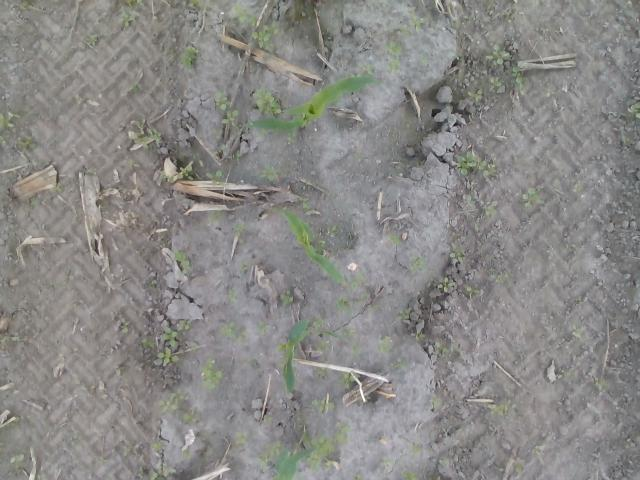Maize: (245, 76, 387, 132), (270, 205, 346, 285), (283, 318, 344, 395), (272, 446, 316, 480)
Weeds: (306, 436, 336, 470), (128, 118, 162, 148), (251, 20, 279, 54), (253, 87, 282, 116), (165, 44, 198, 69), (218, 322, 248, 346), (200, 357, 222, 389), (382, 40, 402, 74), (228, 2, 256, 26), (485, 43, 510, 65), (455, 150, 477, 175), (490, 398, 518, 416), (333, 420, 353, 444), (205, 168, 228, 188), (520, 188, 544, 207), (173, 248, 190, 274), (476, 157, 497, 178), (0, 110, 21, 130), (338, 370, 360, 389), (618, 101, 640, 120), (157, 347, 180, 365), (213, 90, 232, 110), (508, 65, 528, 84), (335, 294, 353, 315), (408, 253, 428, 271), (448, 243, 466, 263), (310, 234, 326, 256), (408, 14, 426, 33), (119, 11, 136, 31), (260, 163, 280, 180), (161, 327, 178, 347), (156, 462, 177, 478), (17, 136, 38, 152), (312, 397, 334, 412), (220, 108, 238, 126), (261, 440, 281, 456), (376, 338, 394, 354), (157, 399, 179, 412), (349, 271, 364, 290), (170, 387, 184, 407), (358, 60, 375, 76), (10, 449, 28, 464), (232, 221, 244, 243), (256, 320, 272, 336), (178, 165, 194, 181), (482, 200, 498, 216), (395, 23, 412, 38), (390, 358, 408, 372), (450, 342, 464, 360), (293, 412, 307, 430), (437, 278, 454, 292), (258, 454, 271, 472), (119, 0, 142, 10), (428, 394, 443, 409), (182, 410, 198, 424), (280, 290, 294, 306), (488, 76, 502, 92), (315, 366, 333, 378), (469, 212, 481, 230), (396, 308, 412, 321), (349, 341, 362, 357), (316, 339, 332, 352), (181, 0, 204, 9), (300, 196, 310, 216), (408, 441, 422, 455), (571, 324, 585, 338), (227, 150, 243, 162), (386, 234, 402, 246), (4, 416, 20, 428), (48, 182, 64, 194), (434, 342, 448, 355), (212, 144, 226, 157), (234, 431, 248, 444), (237, 260, 250, 274), (340, 325, 355, 337), (137, 465, 149, 480), (468, 88, 483, 100), (410, 329, 426, 340), (401, 470, 418, 480), (326, 224, 338, 238), (178, 318, 192, 330), (210, 208, 222, 222), (503, 8, 517, 20), (138, 338, 156, 347), (120, 317, 130, 333), (112, 364, 128, 374), (344, 72, 364, 80), (532, 444, 546, 455), (490, 273, 504, 284), (0, 334, 19, 342), (87, 34, 99, 46), (212, 128, 224, 140), (152, 440, 164, 452), (123, 444, 135, 456), (355, 294, 367, 306), (572, 180, 584, 192), (150, 470, 164, 480), (129, 83, 141, 94), (379, 457, 391, 468), (313, 314, 324, 326), (594, 379, 606, 390), (464, 286, 480, 294), (418, 55, 429, 66), (300, 430, 310, 442), (286, 132, 298, 142), (188, 341, 200, 351), (28, 196, 38, 208), (158, 170, 168, 182), (467, 194, 477, 206), (486, 0, 496, 12), (518, 83, 527, 96), (451, 20, 462, 30), (49, 281, 60, 291), (278, 356, 288, 367), (20, 0, 32, 9), (73, 94, 85, 103), (228, 288, 236, 301), (70, 436, 80, 446), (276, 342, 286, 352), (127, 158, 137, 168), (546, 88, 556, 98), (148, 277, 158, 287), (250, 360, 260, 370), (514, 462, 522, 474), (287, 448, 299, 456), (72, 210, 80, 222), (60, 115, 72, 123), (182, 448, 191, 458), (462, 13, 473, 21), (380, 471, 391, 479), (0, 134, 7, 146), (258, 128, 267, 137), (98, 456, 107, 465), (88, 167, 98, 175), (263, 415, 273, 423), (353, 152, 363, 160), (494, 466, 504, 474), (368, 304, 379, 310), (236, 125, 242, 135), (548, 248, 556, 255), (51, 244, 60, 250), (432, 475, 442, 480), (352, 475, 362, 480), (304, 179, 312, 185), (36, 473, 42, 480), (439, 460, 448, 464), (160, 243, 167, 248), (0, 440, 4, 446), (0, 294, 3, 301)
